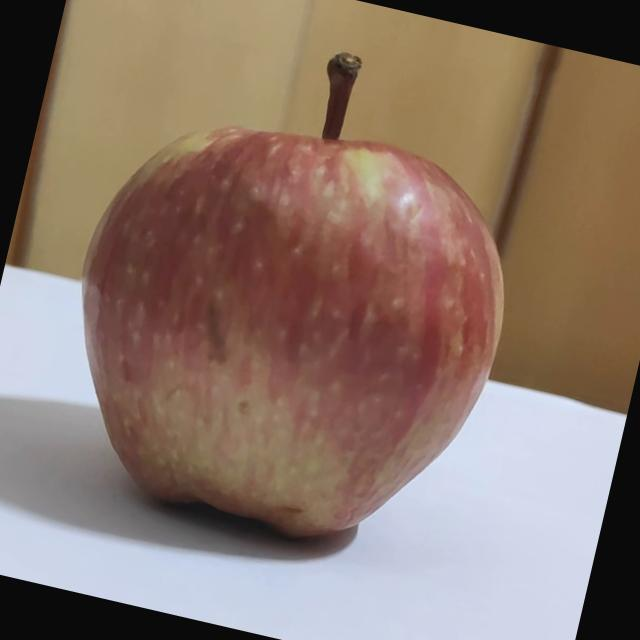apple: (31, 3, 558, 574)
